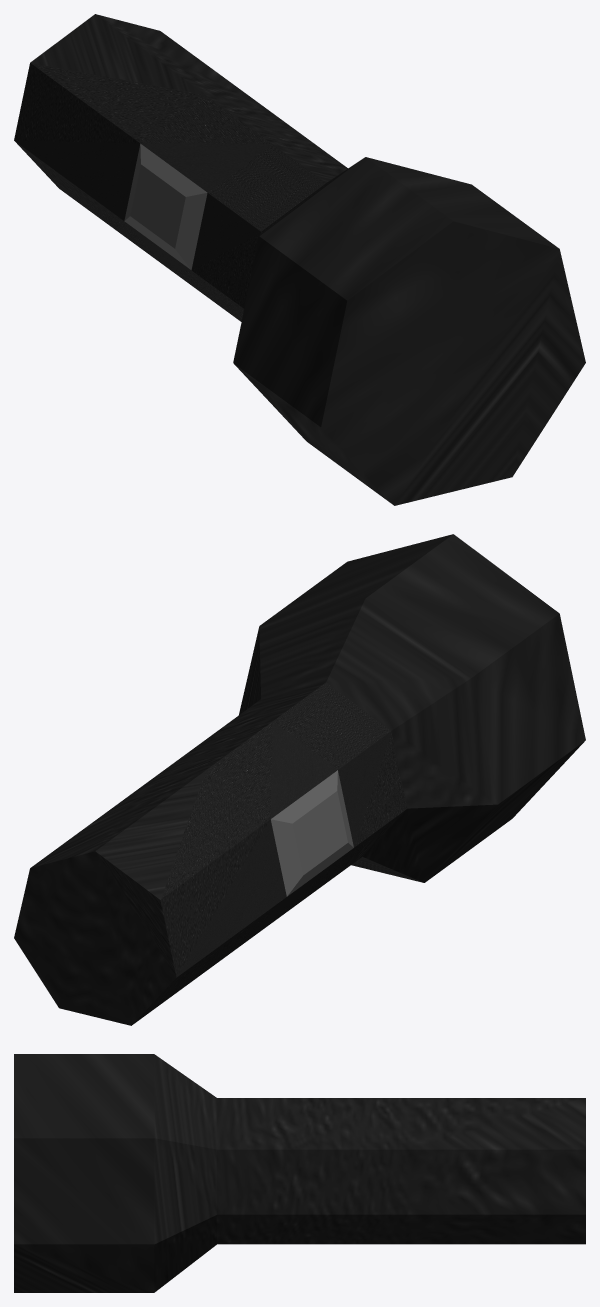
File: flashlight.fbx
The picture shows the model from 3 angles, top to bottom: view 1: azimuth 30°, elevation 25°; view 2: azimuth 150°, elevation 25°; view 3: azimuth 270°, elevation 25°; orthographic projection. The views are drawn at different scales.
Parts seen in each view (by area): view 1: Cylinder; view 2: Cylinder; view 3: Cylinder.
Part boxes in pixels (x1,y1,x2,y2): Cylinder: [14, 14, 585, 505]; Cylinder: [14, 534, 585, 1025]; Cylinder: [14, 1054, 585, 1292].
Bounding box in the file's own units: 318 × 310 × 745.
